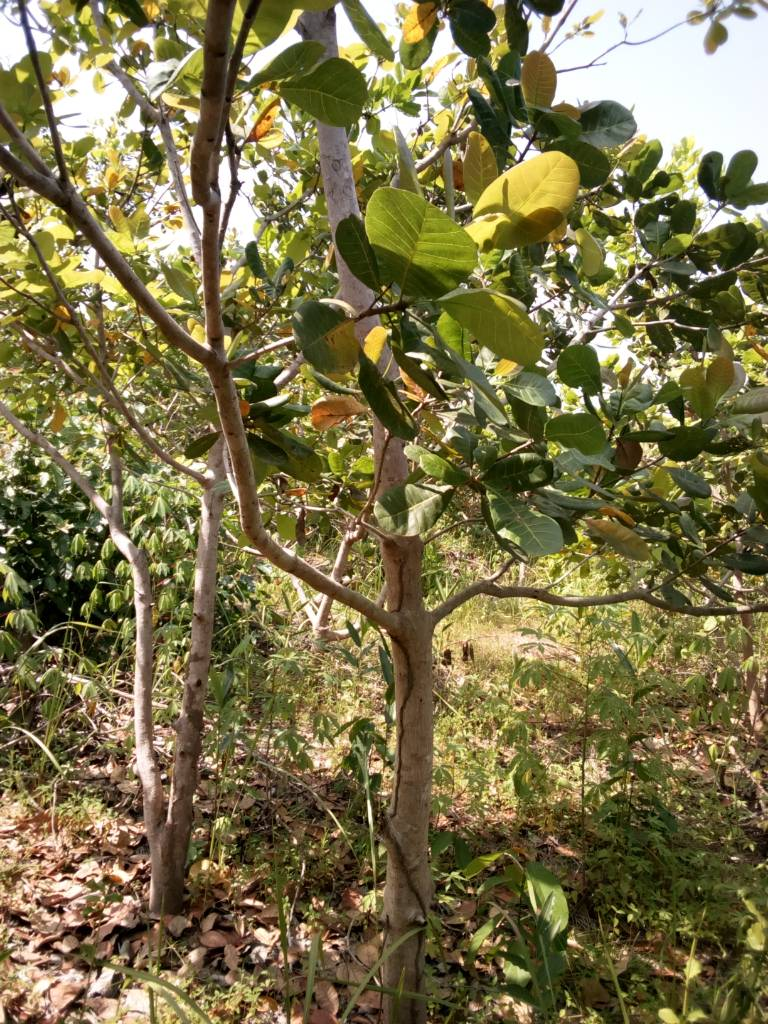Termites: (393, 847, 429, 1011), (393, 624, 419, 828)
